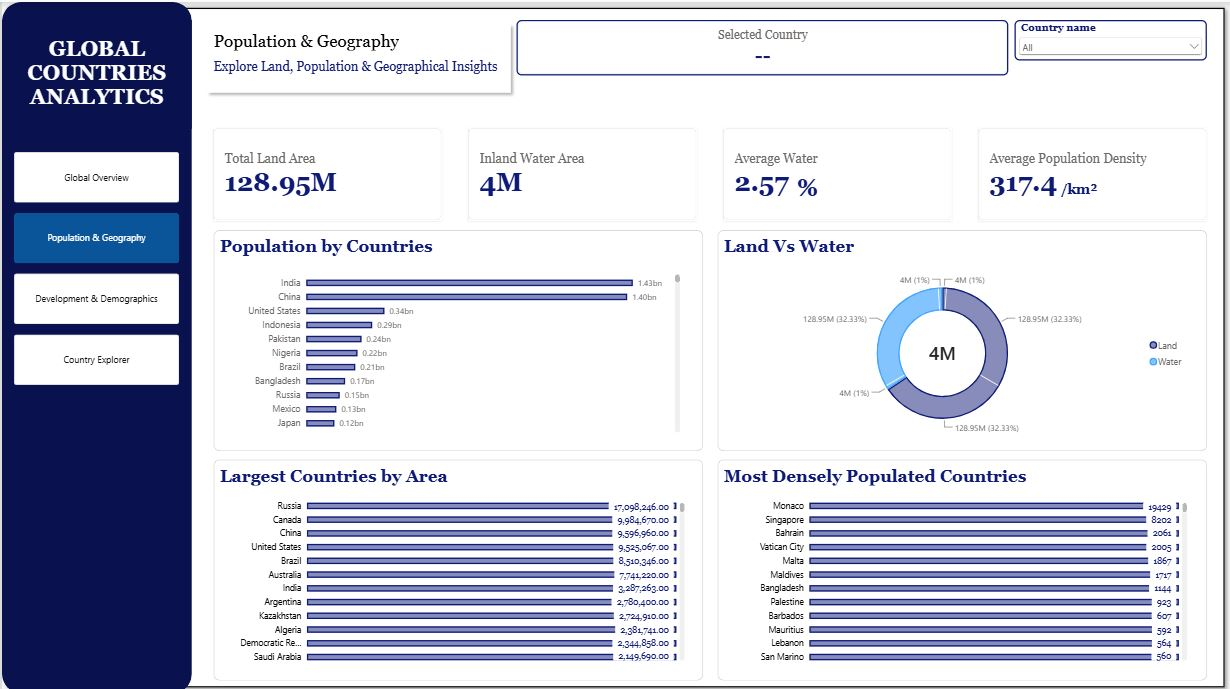

What the dashboard file says about the page in this screenshot:
{"tool":"powerbi","page":{"name":"Population & Geography","canvas":[1920,1080],"ordinal":1},"visuals":[{"type":"shape","box":[0,0,1920.1,1080.4],"z":0},{"type":"shape","box":[312.9,26.9,492.2,124.9],"z":0,"group":"g1"},{"type":"shape","box":[0,0,296.8,1080.4],"z":1000},{"type":"shape","box":[331.1,90.5,457.8,34.4],"z":1000,"group":"g1"},{"type":"pageNavigator","box":[18.1,235.3,258.8,365.6],"z":2000},{"type":"shape","box":[0,27.1,296.8,170.1],"z":3000},{"type":"group","id":"g1","title":"Group 1","box":[312.9,26.9,492.2,124.9],"z":4000},{"type":"cardVisual","fields":{"Data":["country_stats.Total Land Area"]},"box":[331.2,197.3,356.5,144.8],"z":5000},{"type":"cardVisual","fields":{"Data":["country_stats.Inland Water Area"]},"box":[729.9,197.3,356.5,144.8],"z":6000},{"type":"cardVisual","fields":{"Data":["country_stats.Average Water"]},"box":[1128.6,197.3,356.5,144.8],"z":7000},{"type":"shape","box":[331.2,356.5,765.5,345.6],"z":8000},{"type":"cardVisual","fields":{"Data":["country_stats.Average Population Density"]},"box":[1527.4,197.3,356.5,144.8],"z":9000,"group":"g2"},{"type":"shape","box":[1118.4,356.5,765.5,345.6],"z":9000},{"type":"shape","box":[331.2,714.8,765.5,345.6],"z":10000},{"type":"shape","box":[1118.4,714.8,765.5,345.6],"z":11000},{"type":"clusteredBarChart","fields":{"Category":["country_stats.Country name"],"Y":["Sum(country_stats.Population)"]},"box":[345.6,403.6,731.1,285.9],"z":12000},{"type":"hundredPercentStackedBarChart","fields":{"Category":["country_stats.Country name"],"Y":["country_stats.Total Area in km²"]},"box":[345.6,760.1,738.3,285.9],"z":13000},{"type":"textbox","box":[1241.4,269.6,56.1,56.1],"z":14000},{"type":"group","id":"g2","title":"Group 2","box":[1527.4,197.3,356.5,144.8],"z":15000},{"type":"textbox","box":[1657.1,281.9,74.2,38],"z":15000,"group":"g2"},{"type":"donutChart","fields":{"Category":["AreaType.Area Type"],"Y":["country_stats.Total Water Area","country_stats.Total Land Area","country_stats.Area Value"]},"box":[1129.2,403.6,738.3,293.2],"z":16000},{"type":"hundredPercentStackedBarChart","fields":{"Category":["country_stats.Country name"],"Y":["country_stats.Density"]},"box":[1129.2,760.1,738.3,285.9],"z":17000},{"type":"slicer","fields":{"Values":["country_stats.Country name"]},"box":[1583.5,27.1,300.4,63.3],"z":18000},{"type":"cardVisual","title":"Country ","fields":{"Data":["country_stats.Country Names"]},"box":[804.2,28.1,769,86.7],"z":19001}]}

Visuals, with their boxes on the page's 1920x1080 design canvas (x1, y1, x2, y2). These are canvas units, not pixel positions in the 1230x689 screenshot, which may show the page scaled, cropped or inside an application window:
shape: 0/0/1920/1080
shape: 313/27/805/152
shape: 0/0/297/1080
shape: 331/90/789/125
pageNavigator: 18/235/277/601
shape: 0/27/297/197
"Group 1" group: 313/27/805/152
cardVisual - country_stats.Total Land Area: 331/197/688/342
cardVisual - country_stats.Inland Water Area: 730/197/1086/342
cardVisual - country_stats.Average Water: 1129/197/1485/342
shape: 331/356/1097/702
cardVisual - country_stats.Average Population Density: 1527/197/1884/342
shape: 1118/356/1884/702
shape: 331/715/1097/1060
shape: 1118/715/1884/1060
clusteredBarChart - country_stats.Country name x Sum(country_stats.Population): 346/404/1077/690
hundredPercentStackedBarChart - country_stats.Country name x country_stats.Total Area in km²: 346/760/1084/1046
textbox: 1241/270/1298/326
"Group 2" group: 1527/197/1884/342
textbox: 1657/282/1731/320
donutChart - AreaType.Area Type x country_stats.Total Water Area: 1129/404/1868/697
hundredPercentStackedBarChart - country_stats.Country name x country_stats.Density: 1129/760/1868/1046
slicer - country_stats.Country name: 1584/27/1884/90
"Country " cardVisual: 804/28/1573/115
